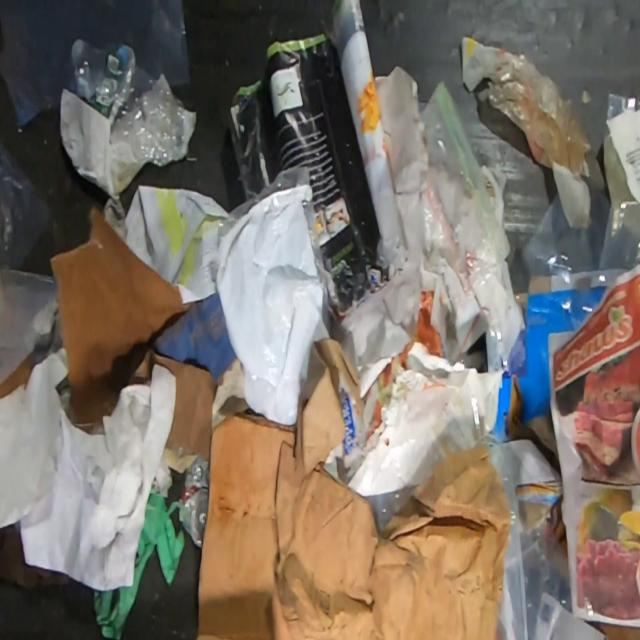cardboard: (197, 338, 512, 640), (50, 209, 190, 388), (487, 287, 610, 457), (128, 347, 215, 454)
metal: (180, 454, 208, 547)
rigid_plastic: (60, 35, 197, 199)
soft_plastic: (200, 166, 328, 429), (412, 79, 524, 365), (512, 93, 640, 301), (486, 433, 588, 639), (462, 33, 590, 175), (0, 139, 56, 388), (368, 417, 472, 534)
